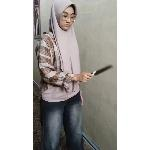Pisau: (80, 62, 116, 80)
